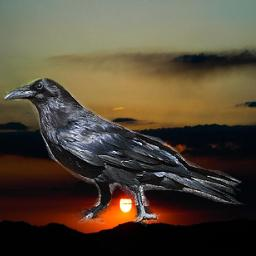Crow: (3, 77, 249, 227)
